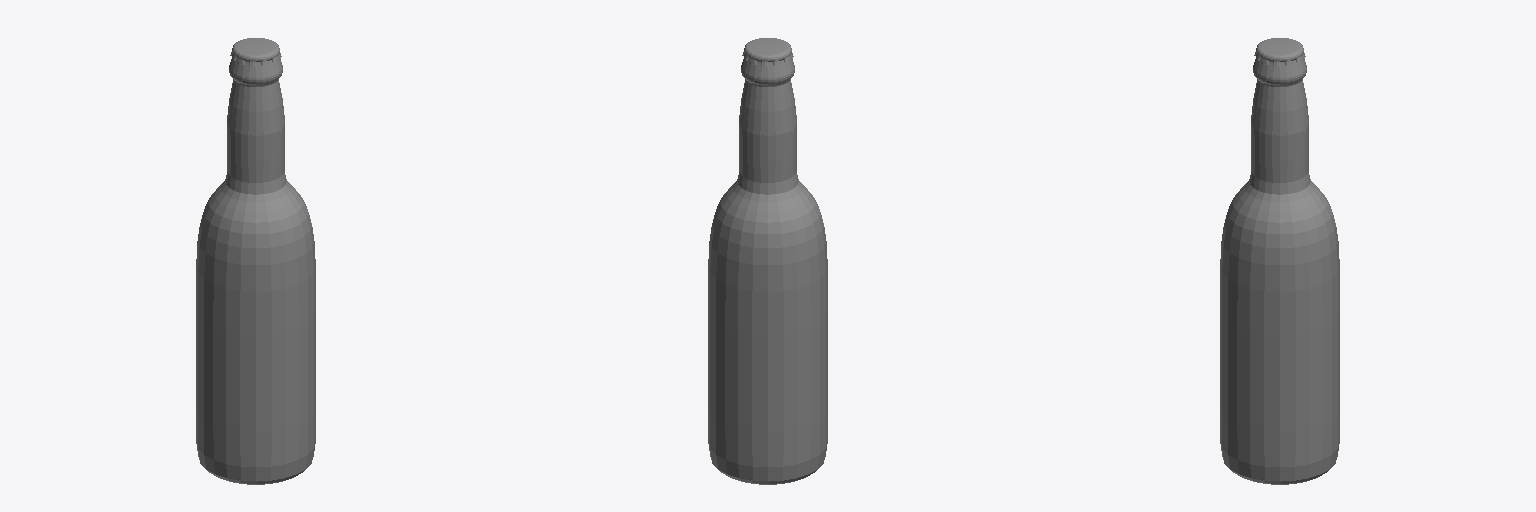
Rendered from Corona.obj.
3 views of the same model, side by side, from view 1: azimuth 30°, elevation 25°; view 2: azimuth 150°, elevation 25°; view 3: azimuth 270°, elevation 25° (orthographic).
Visible parts, largest first — view 1: Botella; view 2: Botella; view 3: Botella.
Boxes of the visible parts, x1=… form: Botella: x1=196, y1=38, x2=315, y2=484; Botella: x1=708, y1=38, x2=827, y2=484; Botella: x1=1220, y1=38, x2=1339, y2=484.
Bounding box in the file's own units: 10.56 × 40.54 × 10.56.